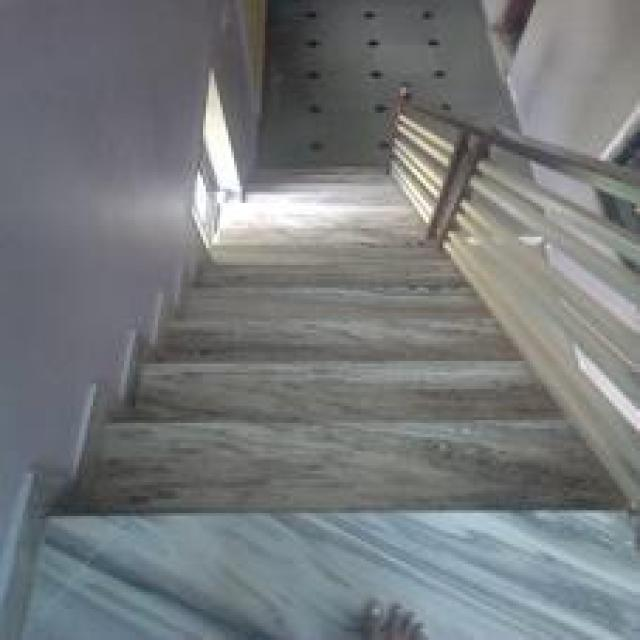downstair: (63, 311, 571, 551)
